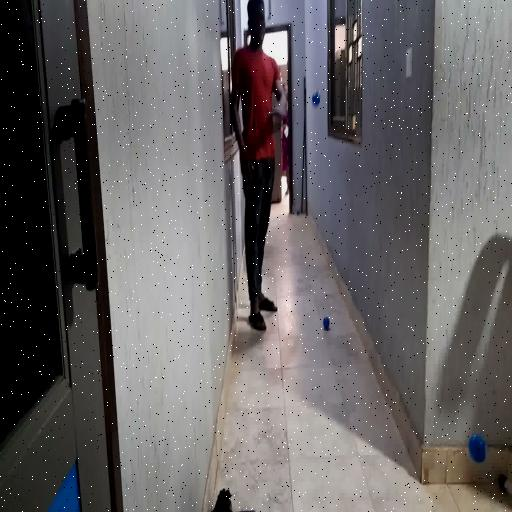plastic-ball: (312, 86, 322, 110)
